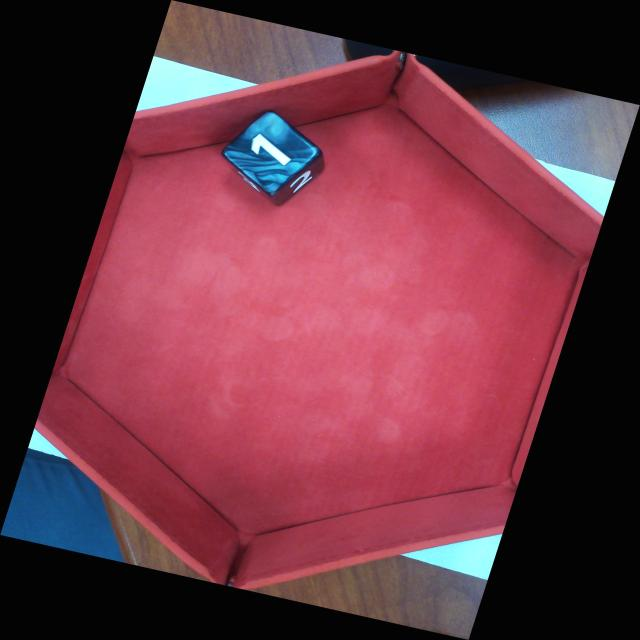dice: (217, 107, 325, 201)
